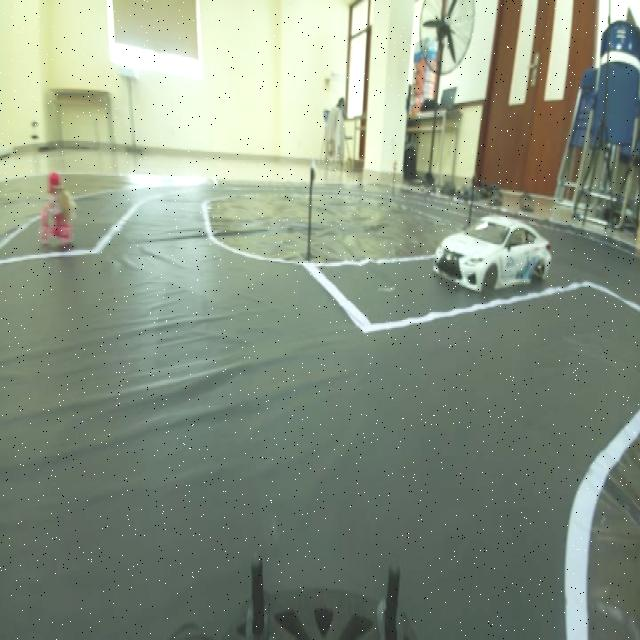car: (434, 204, 554, 302)
